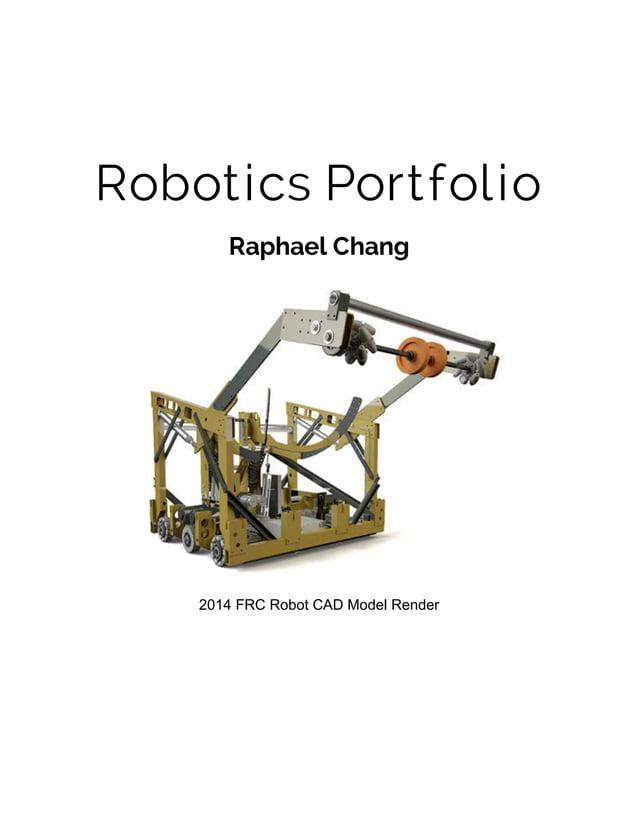robot: (140, 282, 500, 585)
